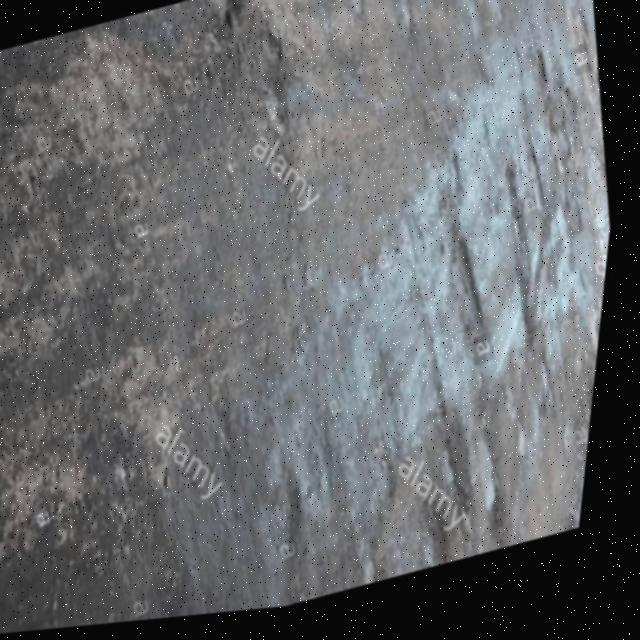Pothole: (446, 296, 612, 568), (421, 196, 555, 420), (503, 27, 605, 233), (540, 199, 620, 456), (469, 151, 564, 353), (489, 125, 586, 299), (475, 247, 566, 414), (556, 6, 625, 194), (174, 0, 289, 111)
